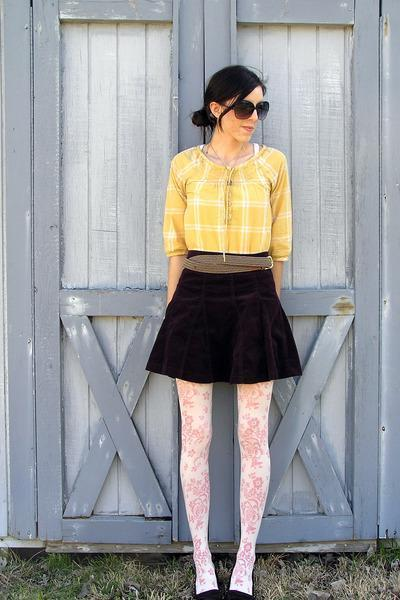shirt: (163, 143, 292, 274)
shoe: (204, 576, 251, 599)
skirt: (146, 252, 303, 384)
sunglass: (228, 92, 268, 118)
